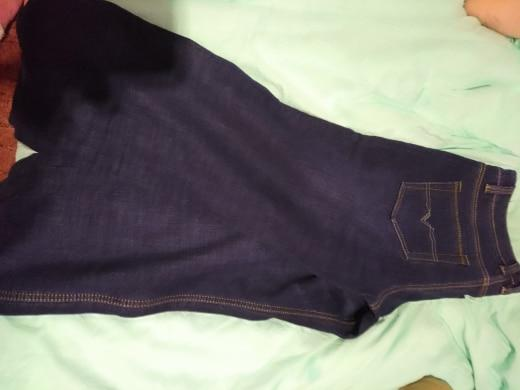jeans: (15, 3, 520, 339)
